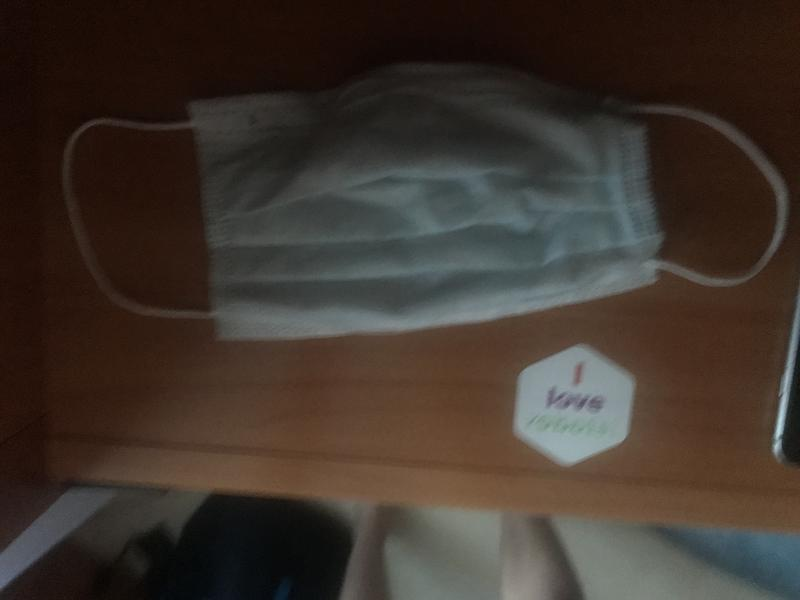medical_mask: (62, 63, 787, 342)
